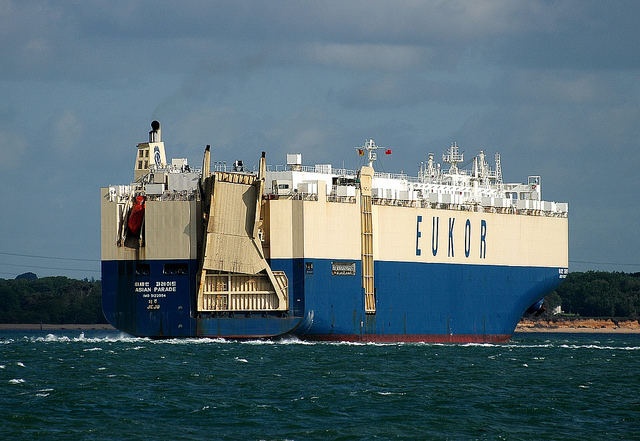PCC: (101, 122, 567, 345)
